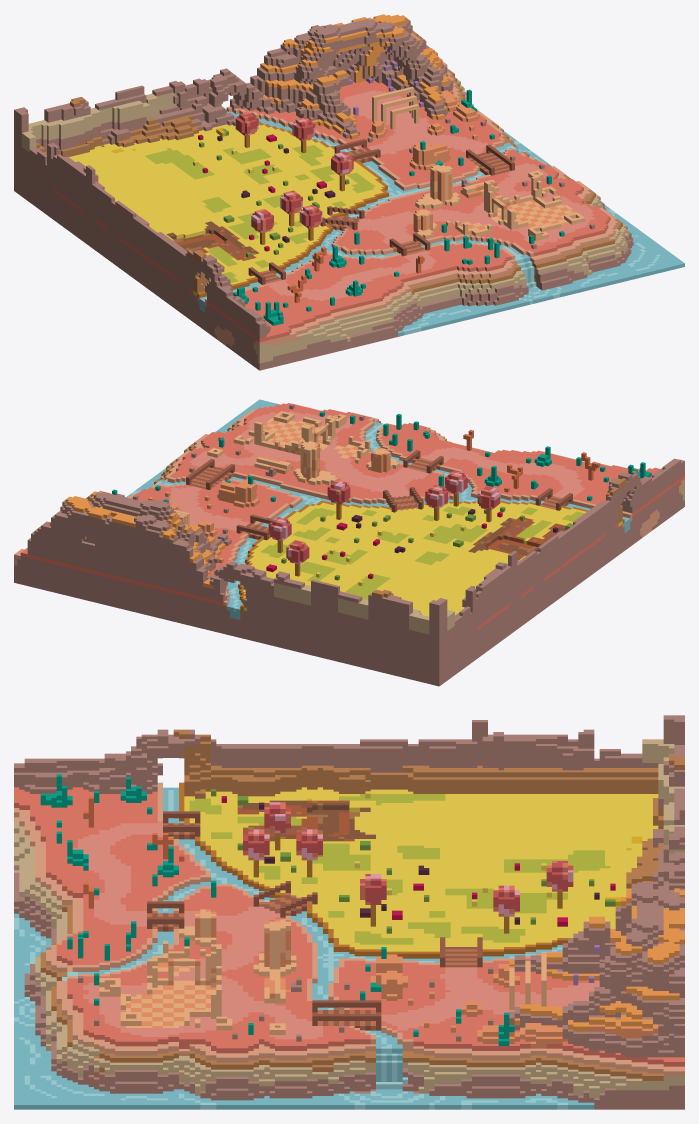
The model's file is Final Land.obj.
The picture shows the model from 3 angles, top to bottom: view 1: azimuth 30°, elevation 25°; view 2: azimuth 150°, elevation 25°; view 3: azimuth 270°, elevation 25°; orthographic projection. The views are drawn at different scales.
Bounding box in the file's own units: 126 × 28 × 126.
